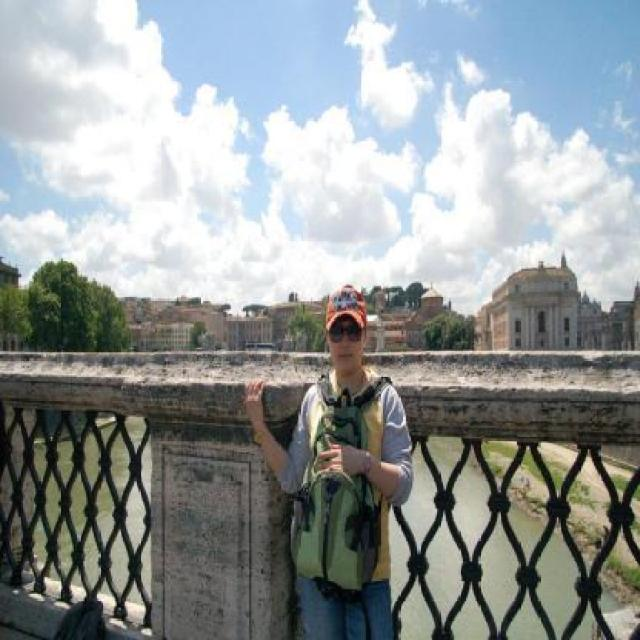backpack: (288, 372, 392, 597)
